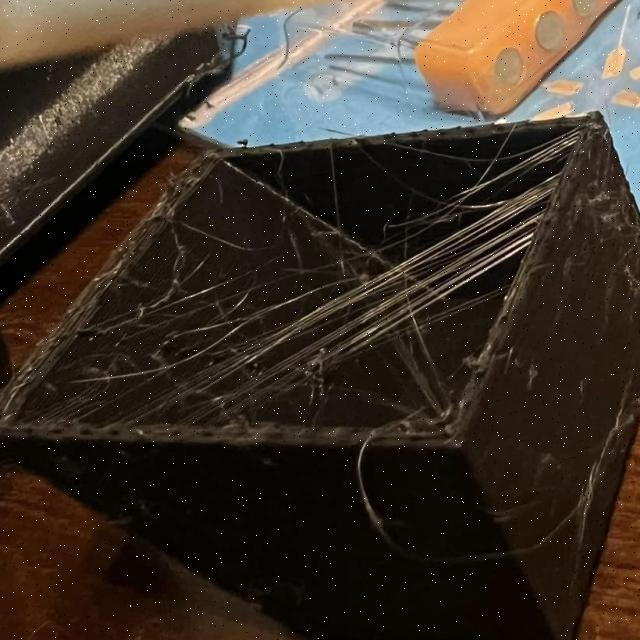stringing: (62, 255, 394, 442), (357, 126, 573, 296)
